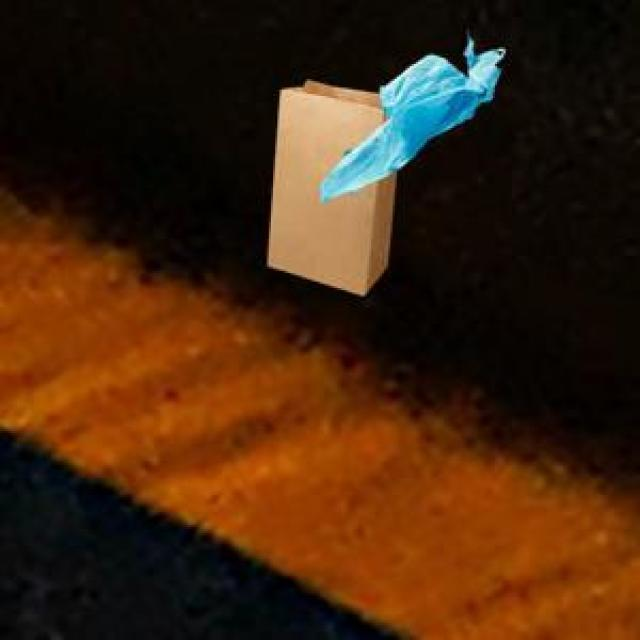paper: (265, 77, 393, 290)
